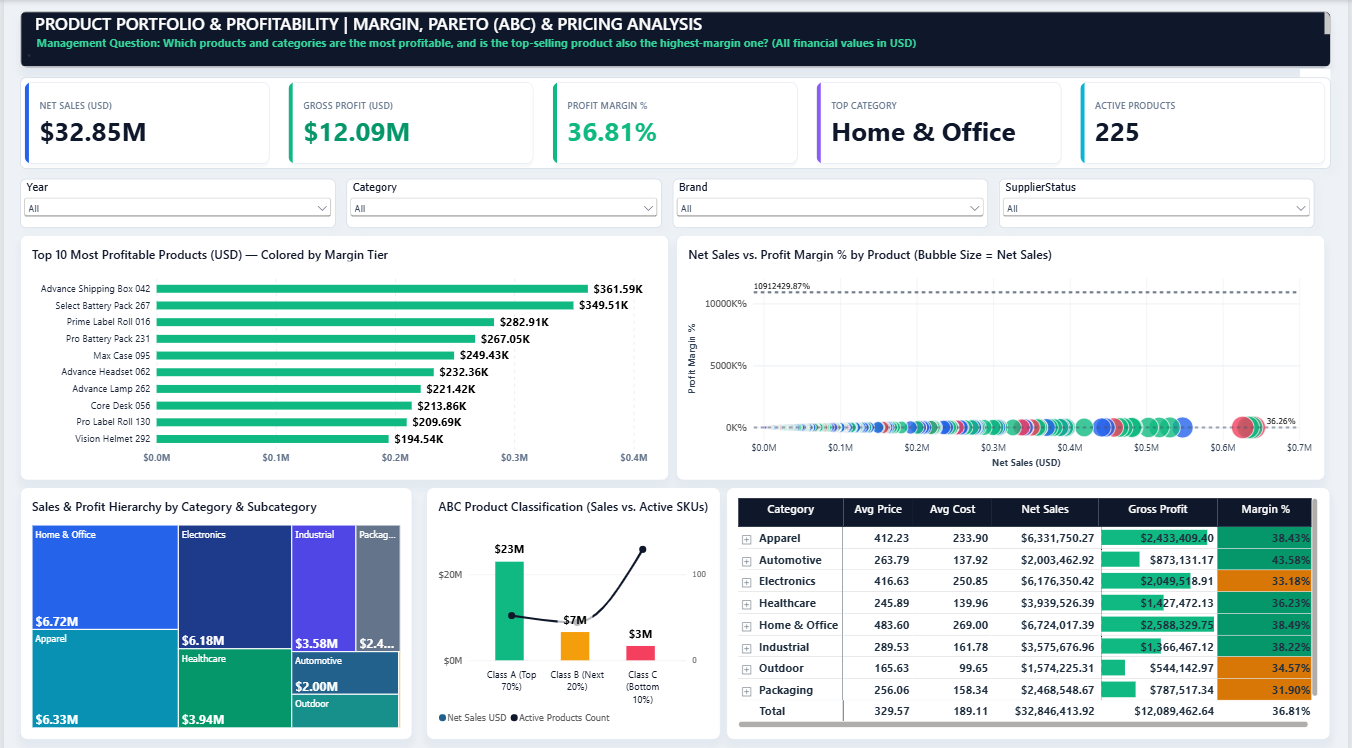

The page's visual inventory and layout, read from the dashboard file:
{"tool":"powerbi","page":{"name":"Products & Profitability","canvas":[1920,1080],"ordinal":3},"visuals":[{"type":"textbox","box":[24,16,1872,80],"z":0},{"type":"cardVisual","fields":{"Data":["_All Measures.Net Sales USD","_All Measures.Gross Profit USD","_All Measures.Gross Profit Margin %","_All Measures.Top Category","_All Measures.Active Products Count"]},"box":[24,110,1872,130],"z":1000},{"type":"slicer","fields":{"Values":["Dim_Date.Year"]},"box":[24,256,450,70],"z":2000},{"type":"slicer","fields":{"Values":["Dim_Products.Category"]},"box":[490,256,450,70],"z":3000},{"type":"slicer","fields":{"Values":["Dim_Products.Brand"]},"box":[956,256,450,70],"z":4000},{"type":"slicer","fields":{"Values":["Dim_Products.SupplierStatus"]},"box":[1422,256,450,70],"z":5000},{"type":"clusteredBarChart","title":"Top 10 Most Profitable Products (USD) — Colored by Margin Tier","fields":{"Category":["Dim_Products.ProductName"],"Y":["_All Measures.Gross Profit USD"]},"box":[24,336,926,350],"z":5001},{"type":"scatterChart","title":"Net Sales vs. Profit Margin % by Product (Bubble Size = Net Sales)","fields":{"Category":["Dim_Products.ProductName"],"Size":["_All Measures.Net Sales USD"],"X":["_All Measures.Net Sales USD"],"Y":["_All Measures.Gross Profit Margin %"]},"box":[960,336,926,350],"z":5002},{"type":"treemap","title":"Sales & Profit Hierarchy by Category & Subcategory","fields":{"Group":["Dim_Products.Category"],"Values":["_All Measures.Net Sales USD"]},"box":[24,696,560,360],"z":5003},{"type":"lineClusteredColumnComboChart","title":"ABC Product Classification (Sales vs. Active SKUs)","fields":{"Category":["Dim_Products.ABC Class"],"Y":["_All Measures.Net Sales USD"],"Y2":["_All Measures.Active Products Count"]},"box":[604,696,420,360],"z":5004},{"type":"pivotTable","title":"Product Economics Matrix: Price, Cost, Sales, Profit & Margin %","fields":{"Rows":["Dim_Products.Category","Dim_Products.ProductName"],"Values":["Avg(Fact_Sales.UnitPrice)","Avg(Fact_Sales.UnitCost)","_All Measures.Net Sales USD","_All Measures.Gross Profit USD","_All Measures.Gross Profit Margin %"]},"box":[1032,696,862,360],"z":5005}]}

Visuals, with their boxes in screenshot pixels (x1, y1, x2, y2), scaled from the page's 1920x1080 canvas onto the 1352x748 screenshot:
textbox: [left=17, top=11, right=1335, bottom=66]
cardVisual - _All Measures.Net Sales USD x _All Measures.Gross Profit USD: [left=17, top=76, right=1335, bottom=166]
slicer - Dim_Date.Year: [left=17, top=177, right=334, bottom=226]
slicer - Dim_Products.Category: [left=345, top=177, right=662, bottom=226]
slicer - Dim_Products.Brand: [left=673, top=177, right=990, bottom=226]
slicer - Dim_Products.SupplierStatus: [left=1001, top=177, right=1318, bottom=226]
"Top 10 Most Profitable Products (USD) — Colored by Margin Tier" clusteredBarChart: [left=17, top=233, right=669, bottom=475]
"Net Sales vs. Profit Margin % by Product (Bubble Size = Net Sales)" scatterChart: [left=676, top=233, right=1328, bottom=475]
"Sales & Profit Hierarchy by Category & Subcategory" treemap: [left=17, top=482, right=411, bottom=731]
"ABC Product Classification (Sales vs. Active SKUs)" lineClusteredColumnComboChart: [left=425, top=482, right=721, bottom=731]
"Product Economics Matrix: Price, Cost, Sales, Profit & Margin %" pivotTable: [left=727, top=482, right=1334, bottom=731]
